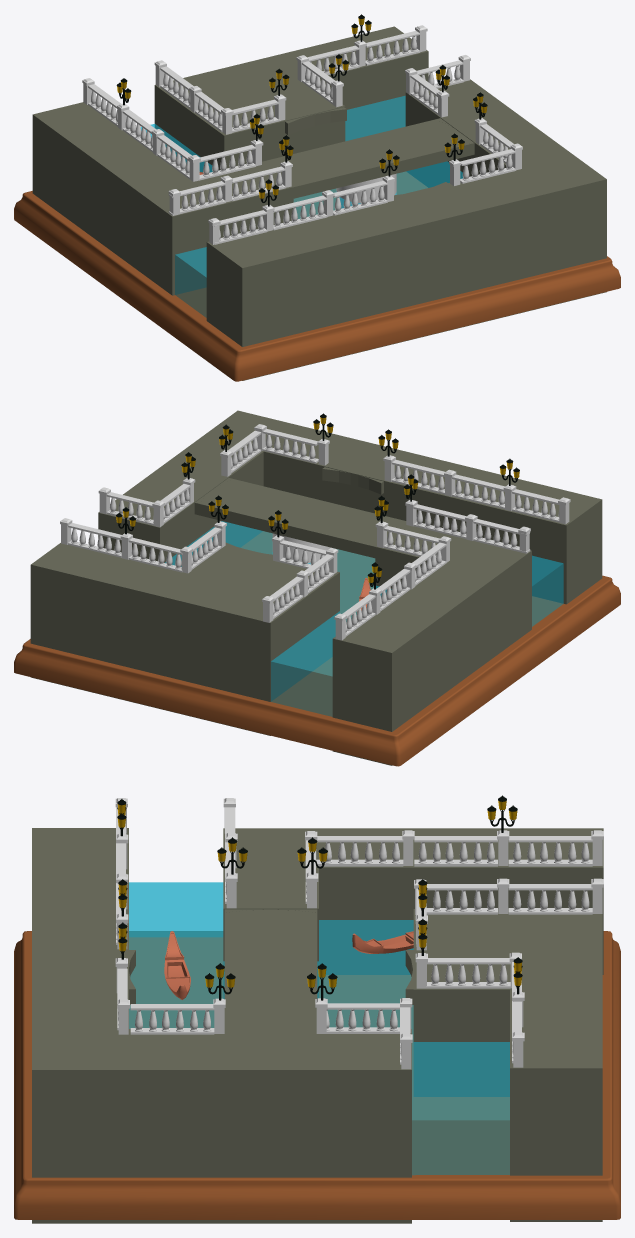
File: Level3_2.FBX
3 views of the same model, one above another, from view 1: azimuth 30°, elevation 25°; view 2: azimuth 150°, elevation 25°; view 3: azimuth 270°, elevation 25° (orthographic). The views are drawn at different scales.
Visible parts, largest first — view 1: Box070, Container001, Box071, Box069, Cylinder060, Cylinder062, Cylinder064; view 2: Container001, Box069, Box070, Box071, Cylinder060, Cylinder063; view 3: Container001, Box070, Box069, Box071, Cylinder060, Plane009, Plane008.
Boxes of the visible parts, x1,y1,x2,y2 form: Box070: (206,79,606,380); Container001: (14,25,620,381); Box071: (32,102,293,295); Box069: (154,26,428,172); Cylinder060: (264,119,469,197); Cylinder062: (285,107,346,134); Cylinder064: (336,173,396,208); Container001: (14,424,620,766); Box069: (30,543,339,735); Box070: (98,410,602,604); Box071: (332,524,531,765); Cylinder060: (199,479,404,557); Cylinder063: (322,467,383,494); Container001: (14,798,620,1219); Box070: (32,828,411,1223); Box069: (413,909,602,1221); Box071: (223,828,603,998); Cylinder060: (224,909,317,1028); Plane009: (164,931,190,999); Plane008: (352,931,413,953).
Bounding box in the file's own units: 336 × 136 × 336.
